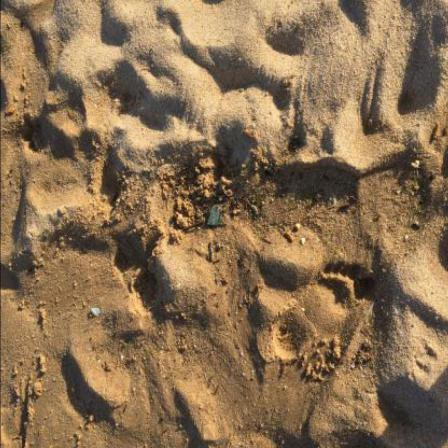Cigarette: (284, 232, 295, 244), (434, 125, 442, 141), (6, 108, 16, 116)
Other plastic: (208, 202, 223, 226)
